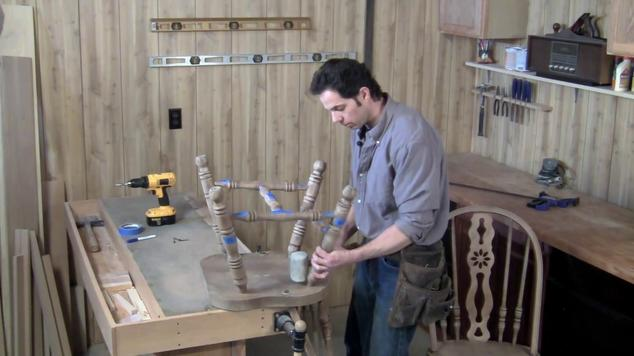down: (531, 158, 577, 185), (528, 190, 585, 209)
